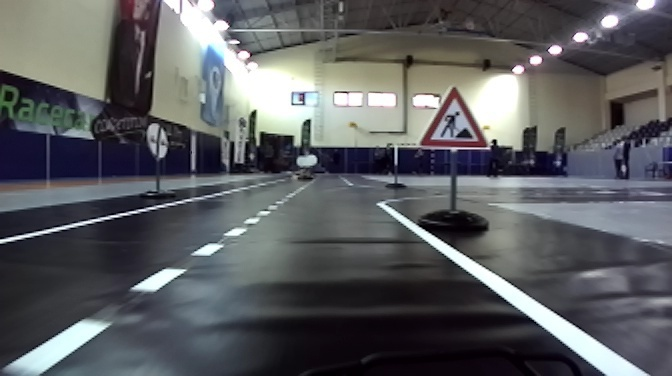yol_yapimi: (421, 81, 497, 149)
